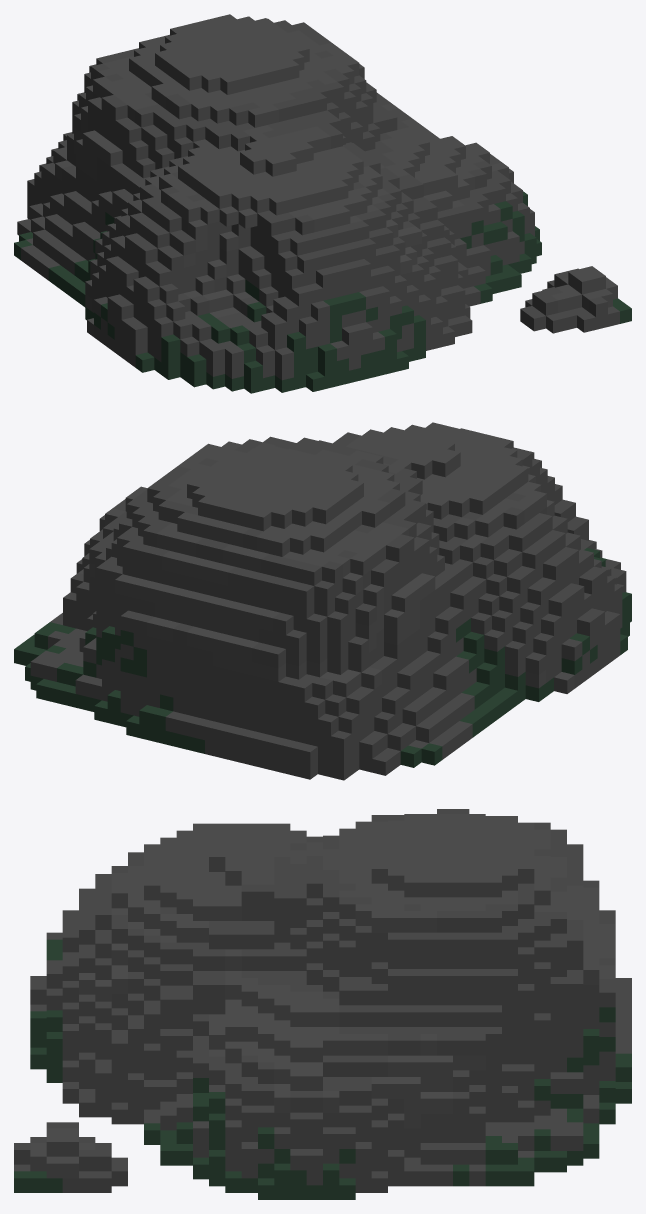
The model's file is stone3.obj.
3 views of the same model, one above another, from view 1: azimuth 30°, elevation 25°; view 2: azimuth 150°, elevation 25°; view 3: azimuth 270°, elevation 25° (orthographic). The views are drawn at different scales.
Size of the model in its own units: 3.6 by 1.5 by 3.8.
Materials: 1 (1 with a texture image).
